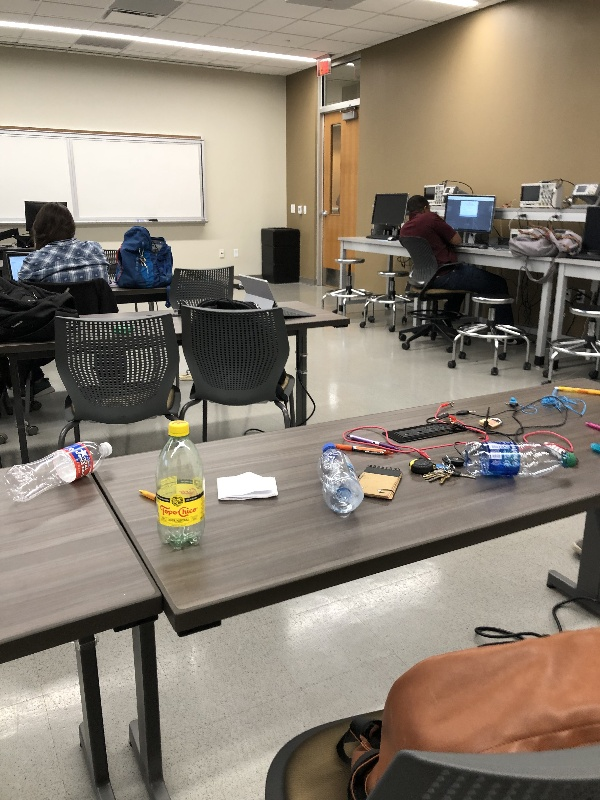bottle: (148, 417, 215, 552), (4, 435, 124, 506), (460, 439, 582, 486), (313, 441, 369, 516)
